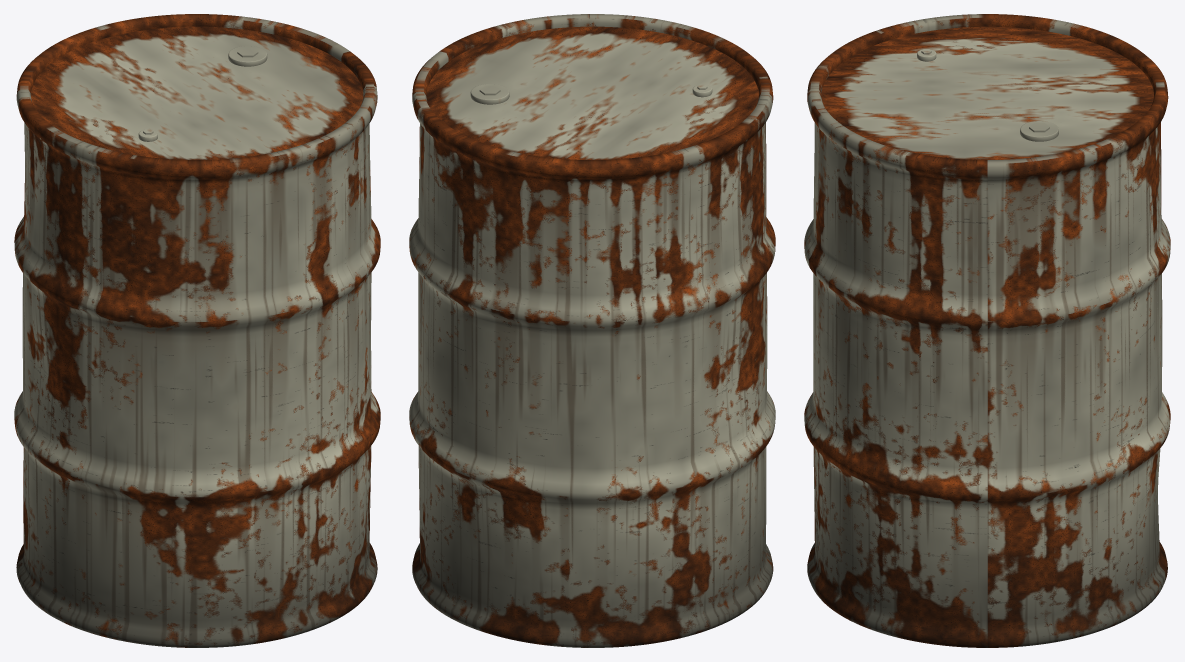
Rendered from Drum_Ivory.glb.
3 renders of one model, left to right at view 1: azimuth 30°, elevation 25°; view 2: azimuth 150°, elevation 25°; view 3: azimuth 270°, elevation 25°, orthographic.
Visible parts, largest first — view 1: Drum_Ivory; view 2: Drum_Ivory; view 3: Drum_Ivory.
Part boxes in pixels (bbox=[...]): Drum_Ivory: bbox=[14, 14, 380, 647]; Drum_Ivory: bbox=[409, 14, 775, 647]; Drum_Ivory: bbox=[804, 14, 1170, 647].
Bounding box in the file's own units: 0.6009 × 0.88 × 0.601.
Materials: 1 (1 with a texture image).
